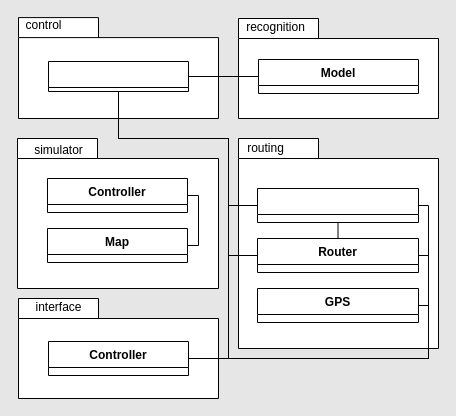
Some shapes in this 456 by 416 pixel diagram are drawn without their labels. The centre of each missing label's shape, as x and y in pixels:
DORA: pixel 118 76
OccupancyMap: pixel 337 205
